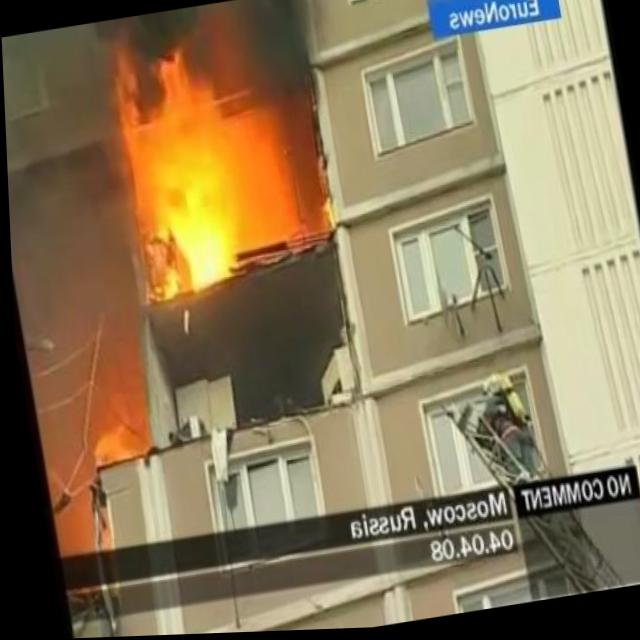fire: (94, 18, 318, 306), (81, 416, 142, 469)
